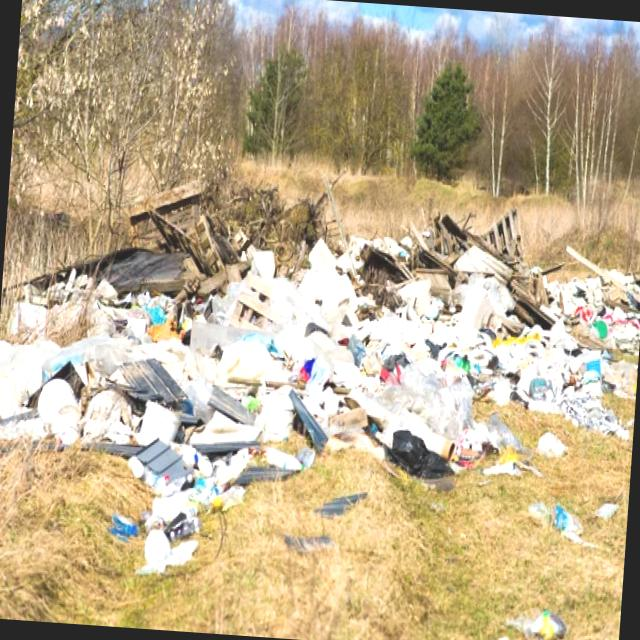garbage: (101, 144, 620, 559)
